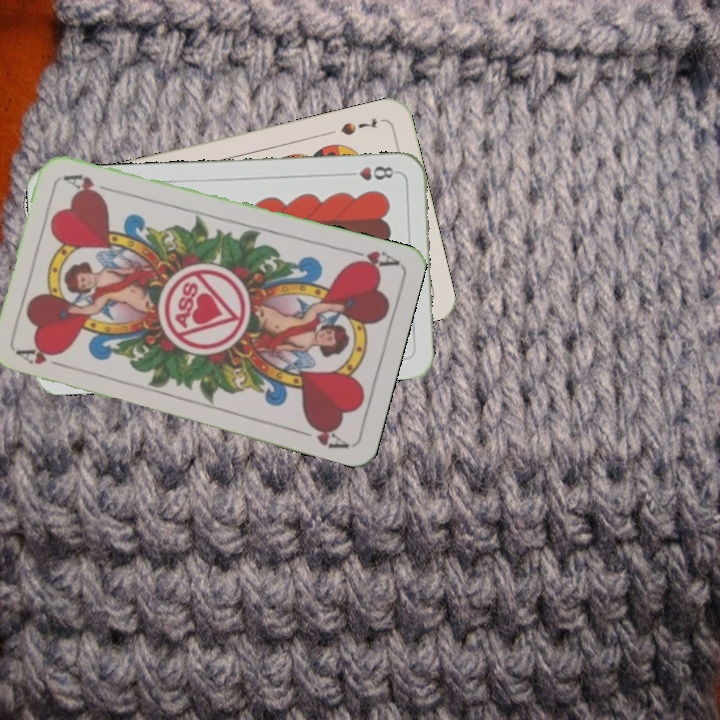H8: (341, 161, 400, 183)
HA: (342, 245, 400, 273), (14, 345, 72, 371)
S7: (337, 114, 381, 138)
